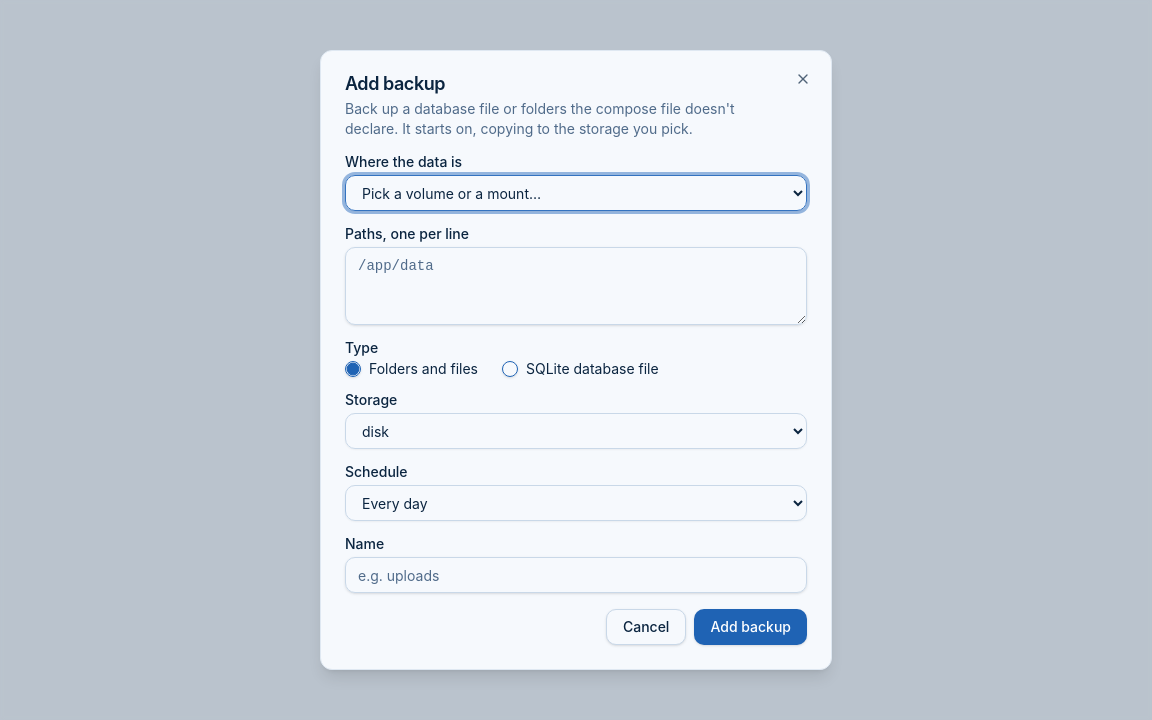
Test case: AddBackupDialog › names a backup after the service when the mount is the root, and avoids a taken name
Expected: the dropdown labelled "Storage" is shown, x1=345 y1=413 x2=807 y2=449
Select "/ (./all)" in the dropdown labelled "Where the data is" at (576, 193), box x1=345 y1=175 x2=807 y2=211
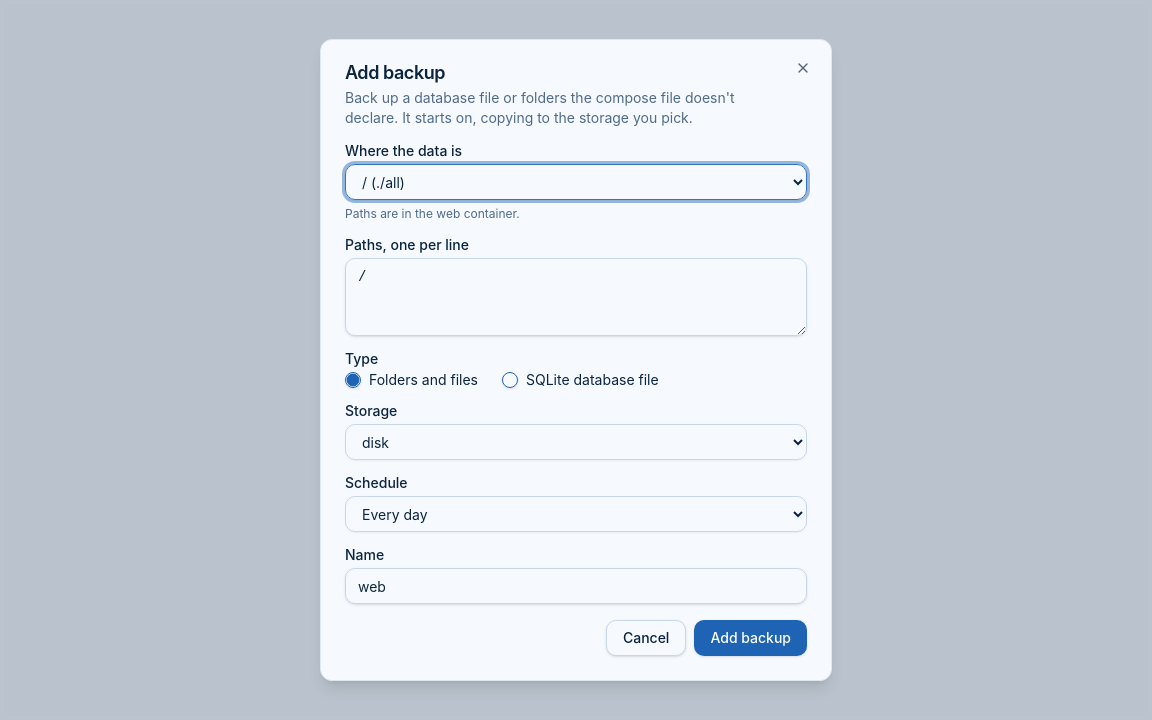
Clear the text box labelled "Paths, one per line" at (576, 297), box x1=345 y1=258 x2=807 y2=336
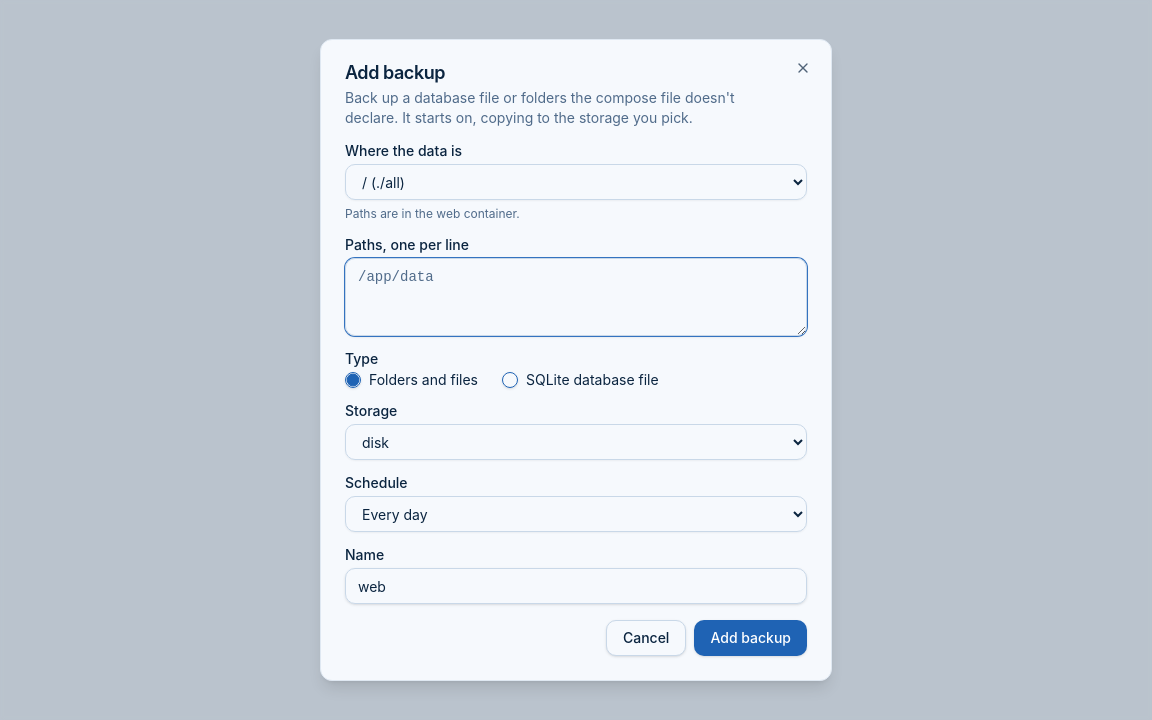
Expected: the field labelled "Name" holds "web", x1=345 y1=568 x2=807 y2=604
Select "Volume database" in the dropdown labelled "Where the data is" at (576, 182), box x1=345 y1=164 x2=807 y2=200
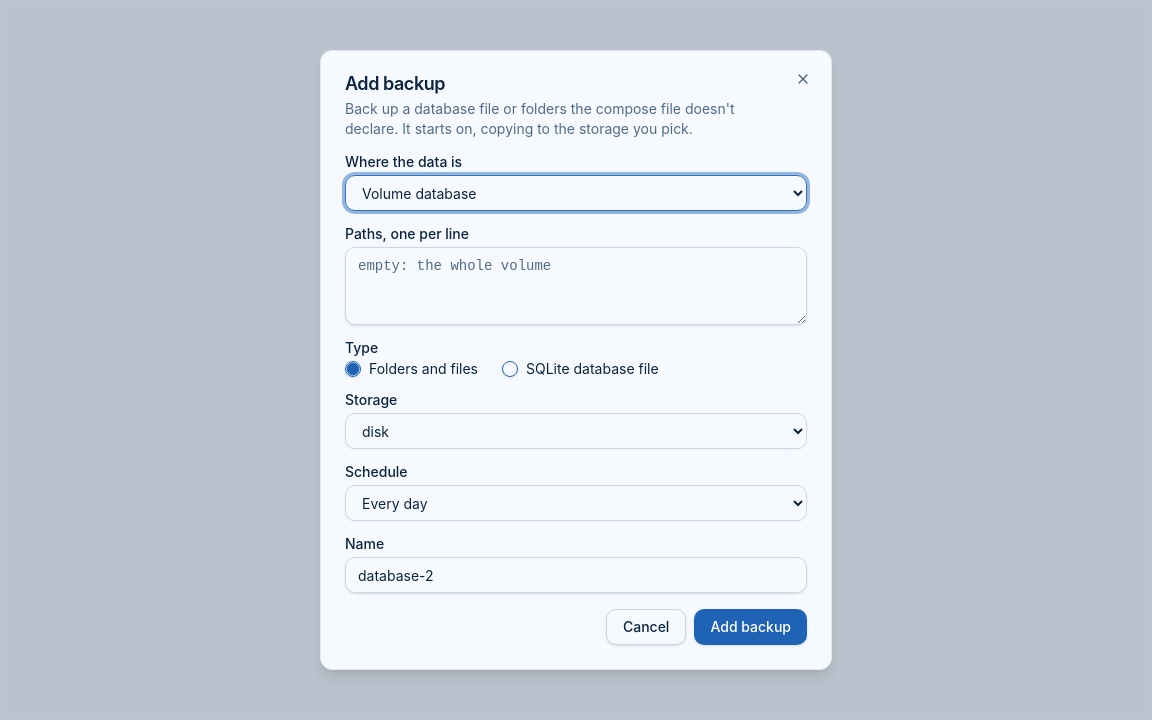
Expected: the field labelled "Name" holds "database-2", x1=345 y1=557 x2=807 y2=593
